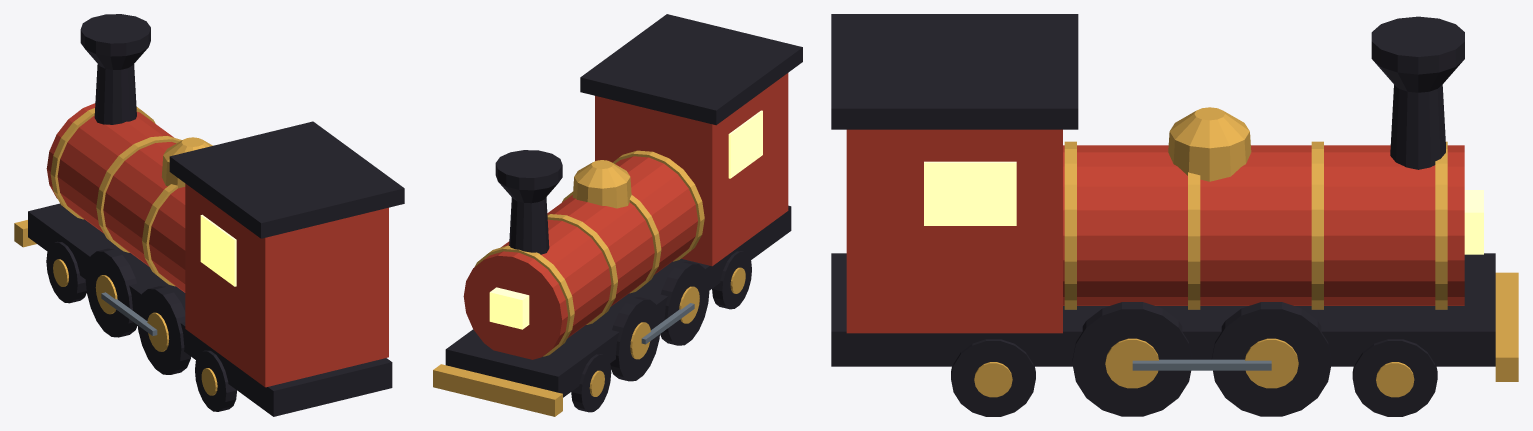
File: locomotive.glb
3 renders of one model, left to right at view 1: azimuth 30°, elevation 25°; view 2: azimuth 150°, elevation 25°; view 3: azimuth 270°, elevation 25°, orthographic. The views are drawn at different scales.
Visible parts, largest first — view 1: LOD0; view 2: LOD0; view 3: LOD0.
Part boxes in pixels (box(x1,y1,x2,y2)): LOD0: box(14, 14, 404, 416); LOD0: box(433, 14, 802, 416); LOD0: box(831, 14, 1518, 416).
Size of what is drawn, in the model's own units: 2.9 by 4.84 by 8.9.
